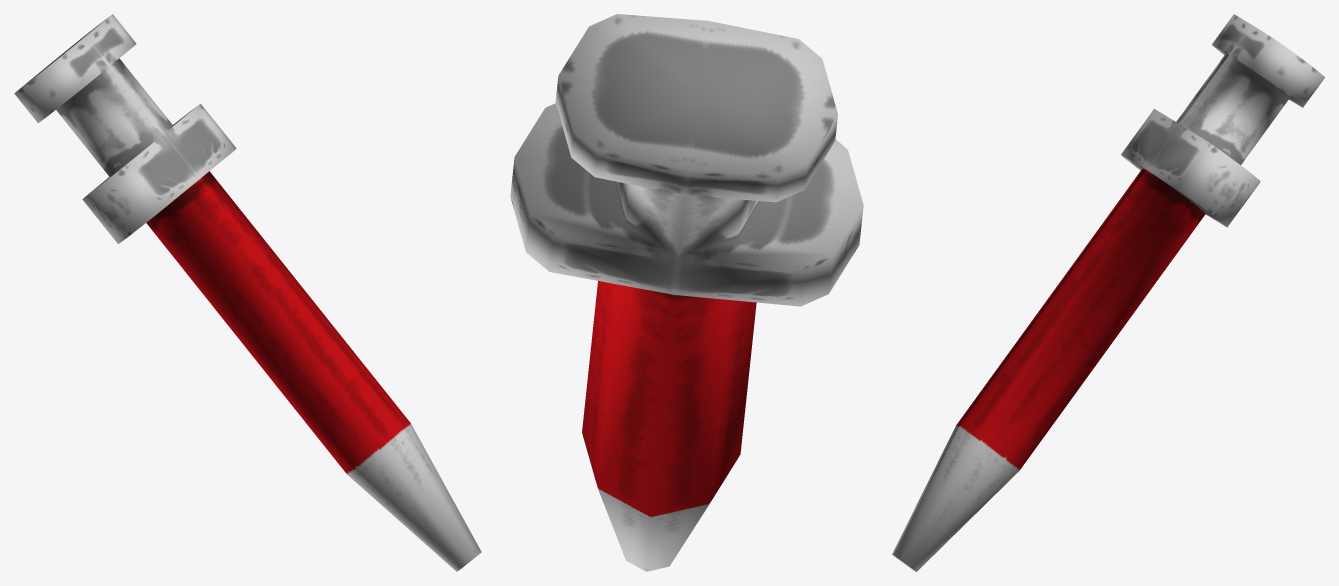
File: Pickupvida.gltf
3 views of the same model, side by side, from view 1: azimuth 30°, elevation 25°; view 2: azimuth 150°, elevation 25°; view 3: azimuth 270°, elevation 25° (orthographic). The views are drawn at different scales.
Parts seen in each view (by area): view 1: vida_low; view 2: vida_low; view 3: vida_low.
Part boxes in pixels (x1,y1,x2,y2): vida_low: (14,14,481,571); vida_low: (510,14,863,571); vida_low: (892,14,1324,571).
Size of the model in its own units: 0.3683 by 0.5717 by 0.4961.
Materials: 1 (1 with a texture image).
